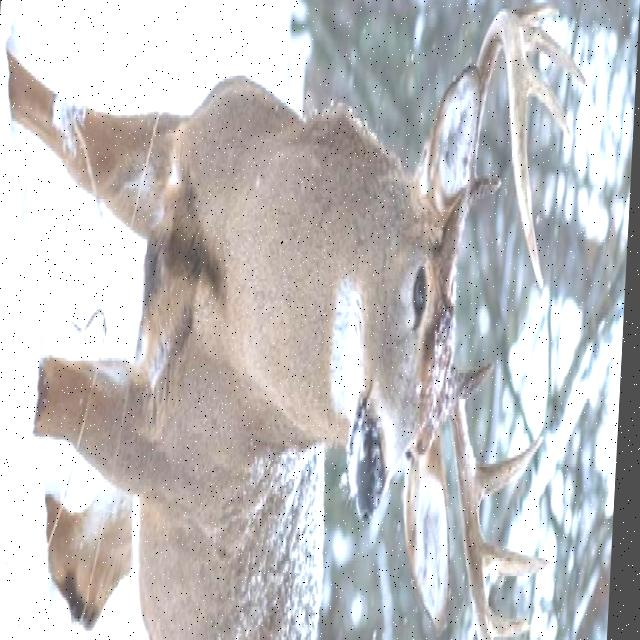L-F: (436, 10, 546, 293)
L-G1: (470, 174, 503, 212)
L-G2: (508, 2, 558, 30)
L-G3: (520, 24, 586, 87)
L-G4: (524, 54, 571, 139)
R-F: (443, 360, 498, 640)
R-G1: (463, 359, 498, 407)
R-G2: (478, 427, 548, 520)
R-G3: (486, 536, 557, 588)
R-G4: (493, 605, 537, 640)
